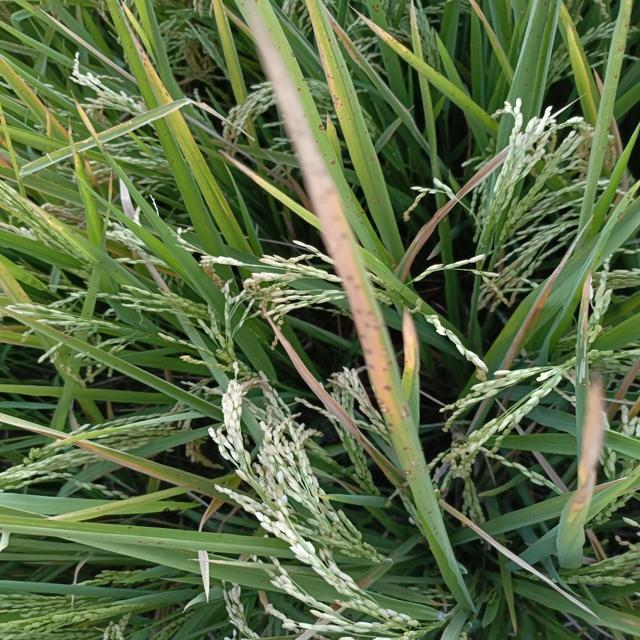insects: (344, 195, 370, 230), (371, 2, 384, 18), (316, 122, 328, 133), (369, 152, 380, 164), (295, 84, 304, 95), (326, 36, 334, 45), (362, 128, 370, 136), (290, 51, 298, 59), (330, 159, 338, 166)
